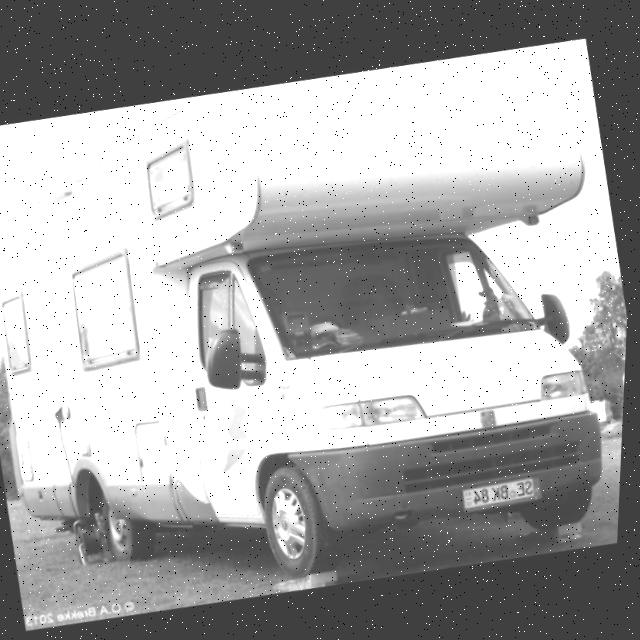license-plates: (462, 478, 542, 514)
